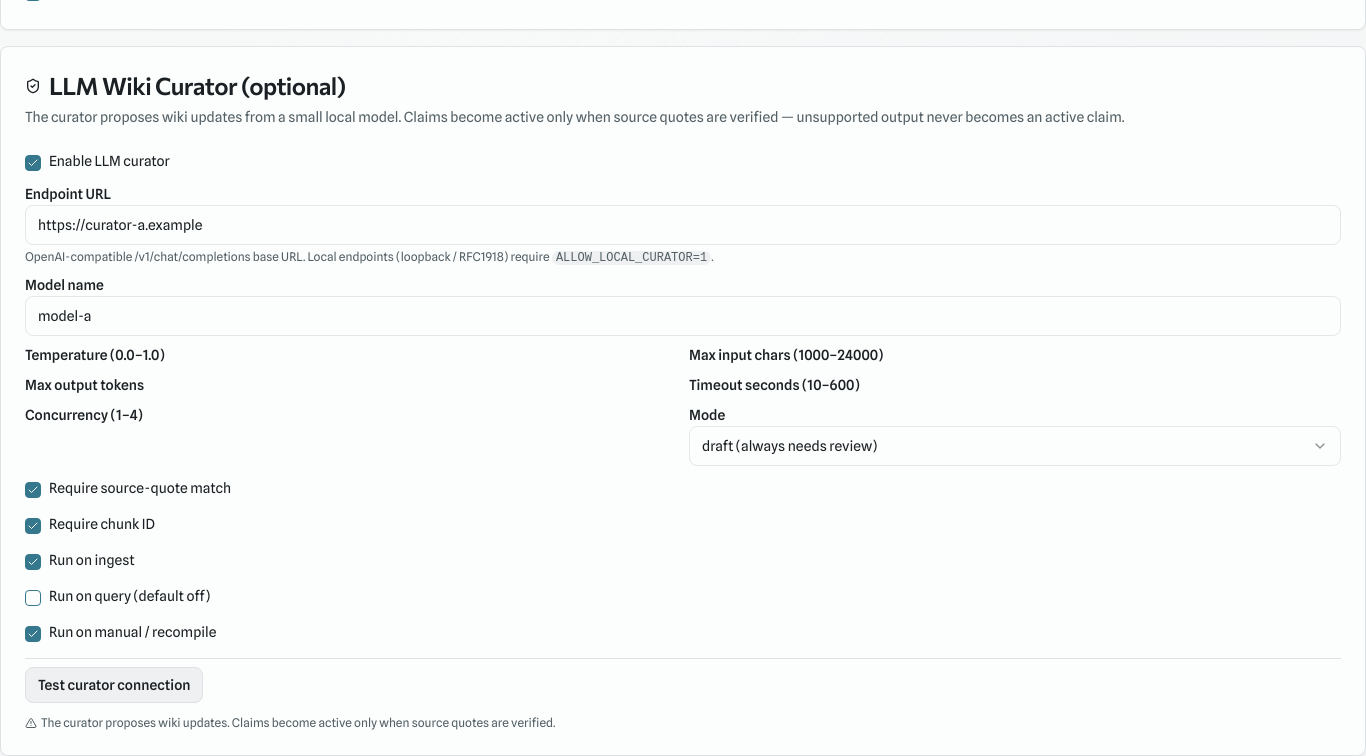
it: WikiCuratorSettings issue #775 lifecycle › handles URL A/B/A with old finalizers ignored and a new test accepted
(page scrolled)
Click the button "Test curator connection" at (114,685), box [25,667,204,703]
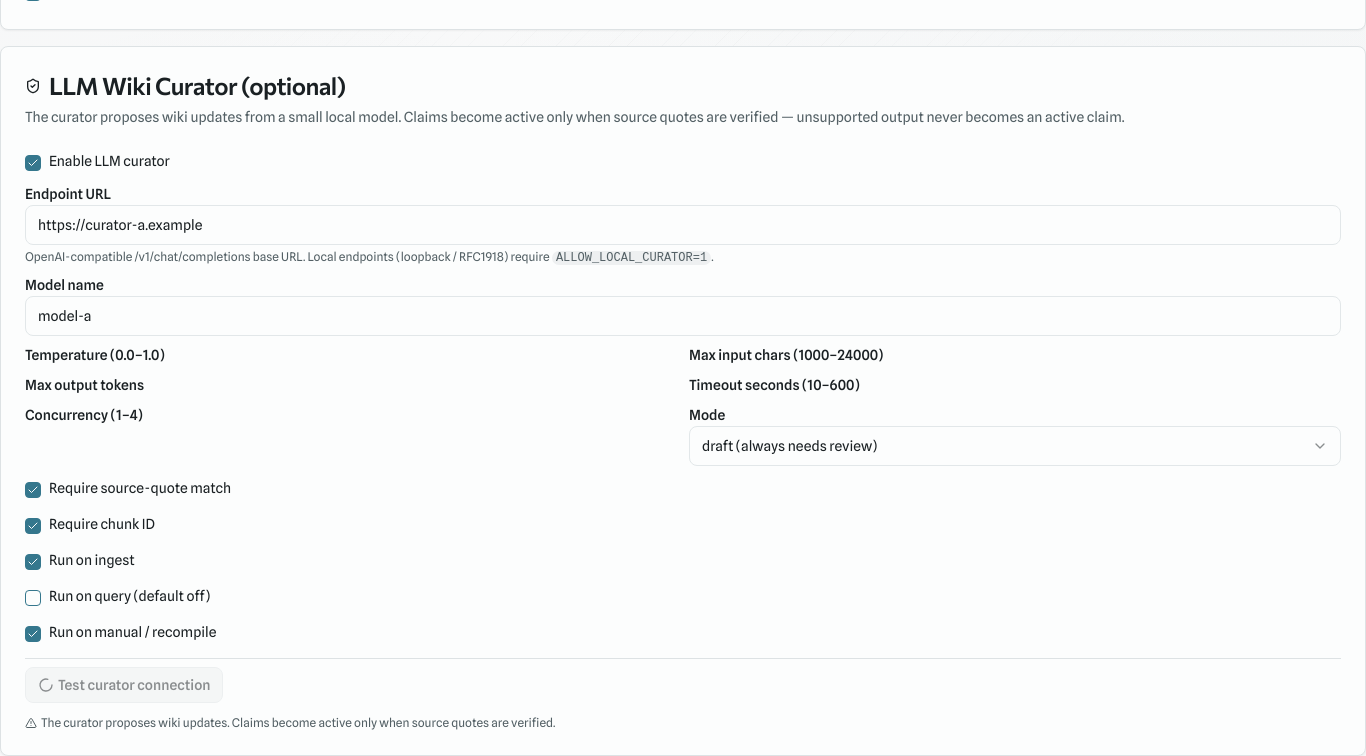
Replace the text in the field labelled "Endpoint URL" with "https://curator-b.example" at (683,225), box [25,205,1341,245]
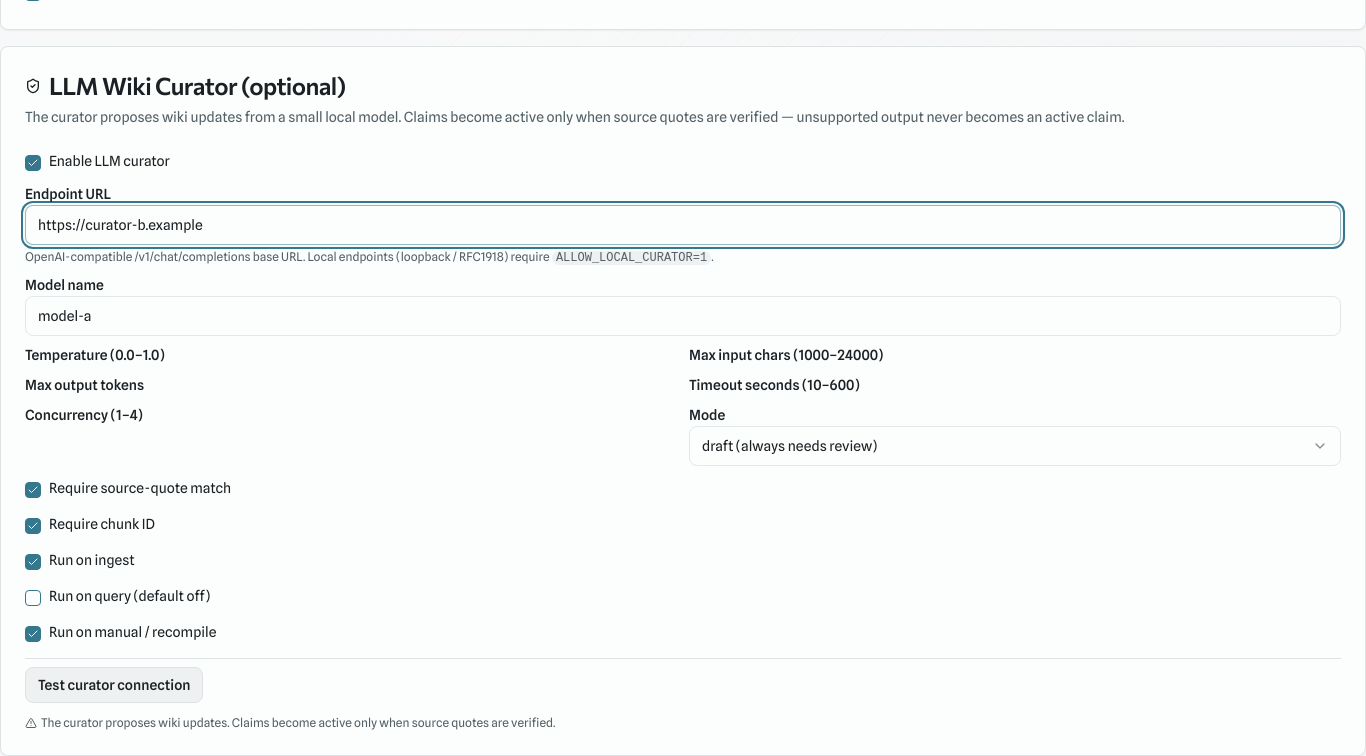
Replace the text in the field labelled "Endpoint URL" with "https://curator-a.example" at (683,225), box [25,205,1341,245]
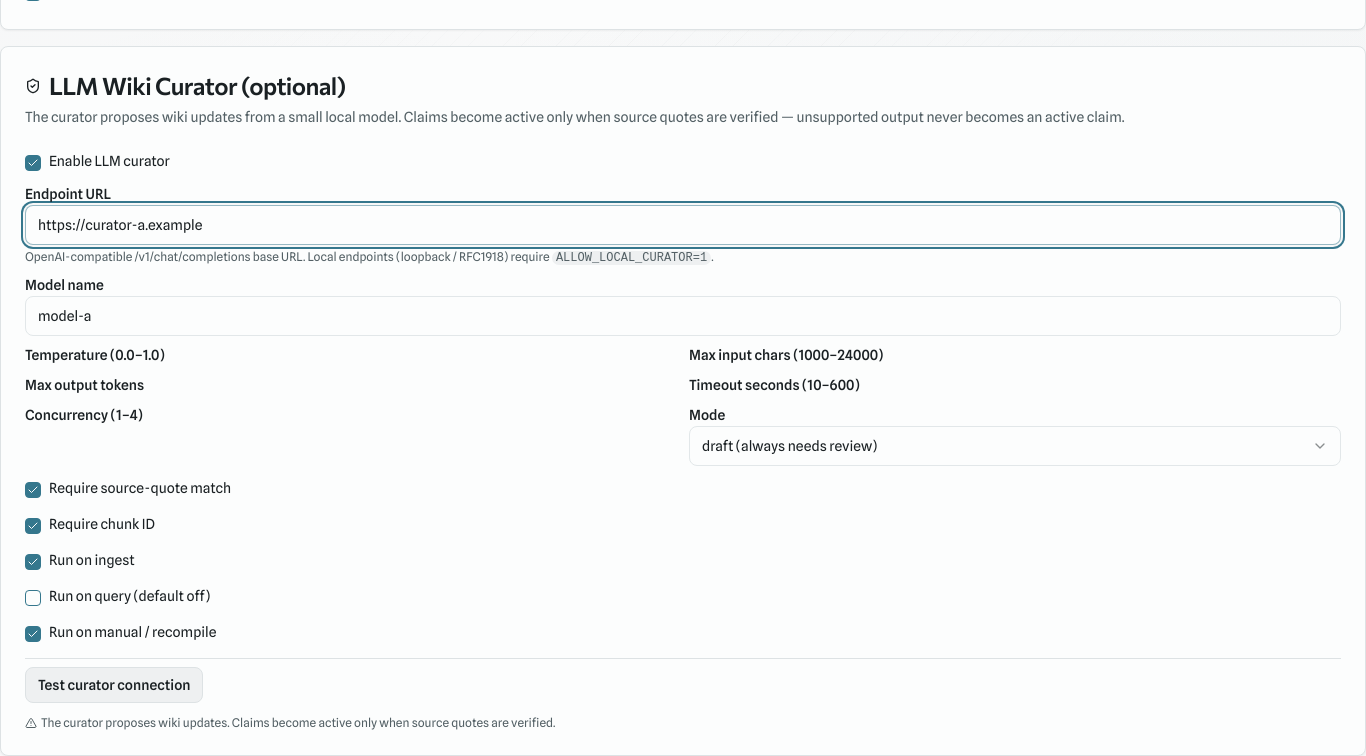
Click the button "Test curator connection" at (114,685), box [25,667,204,703]
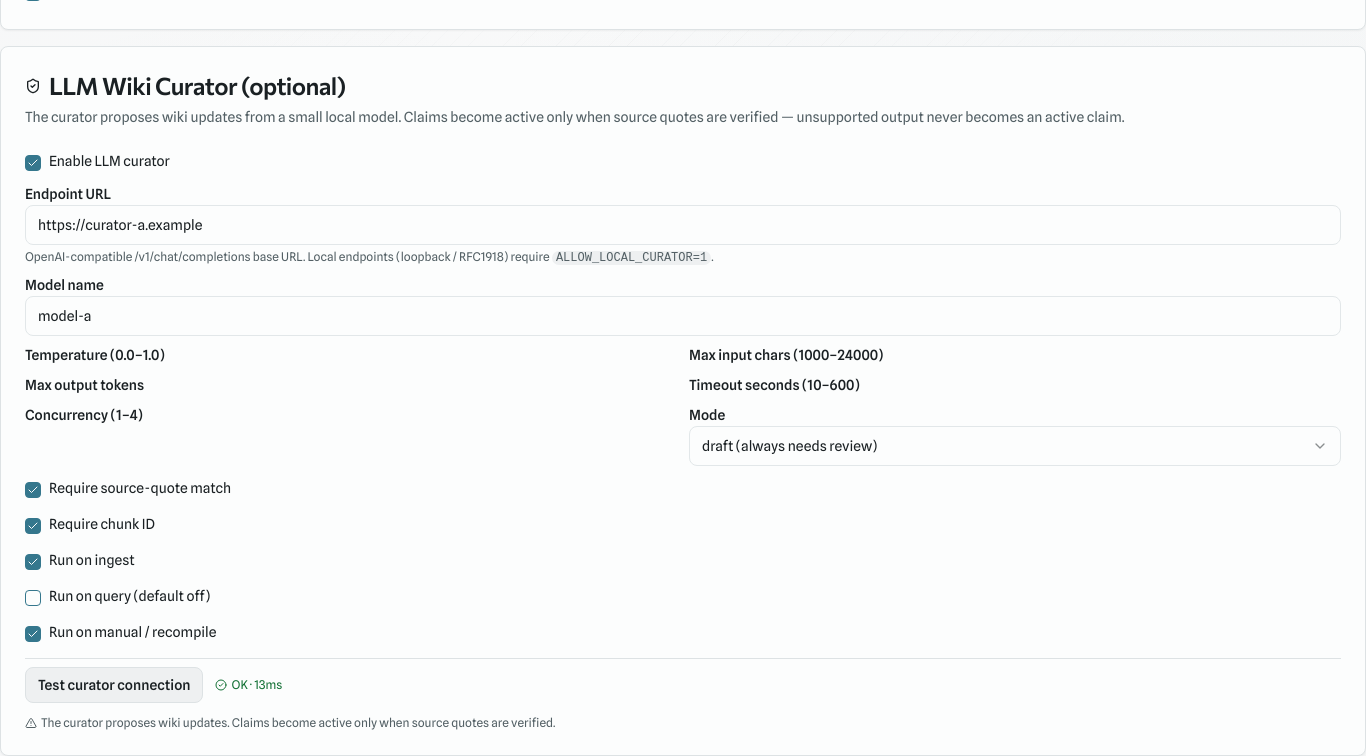
Expected: the text "OK · 13ms" is shown, [216,677,282,693]
